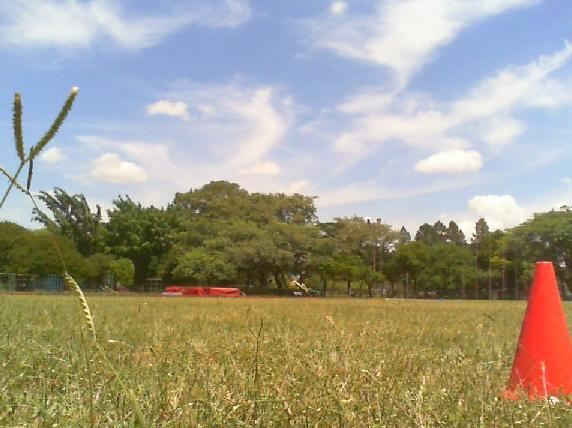0 cone: (498, 261, 572, 401)
